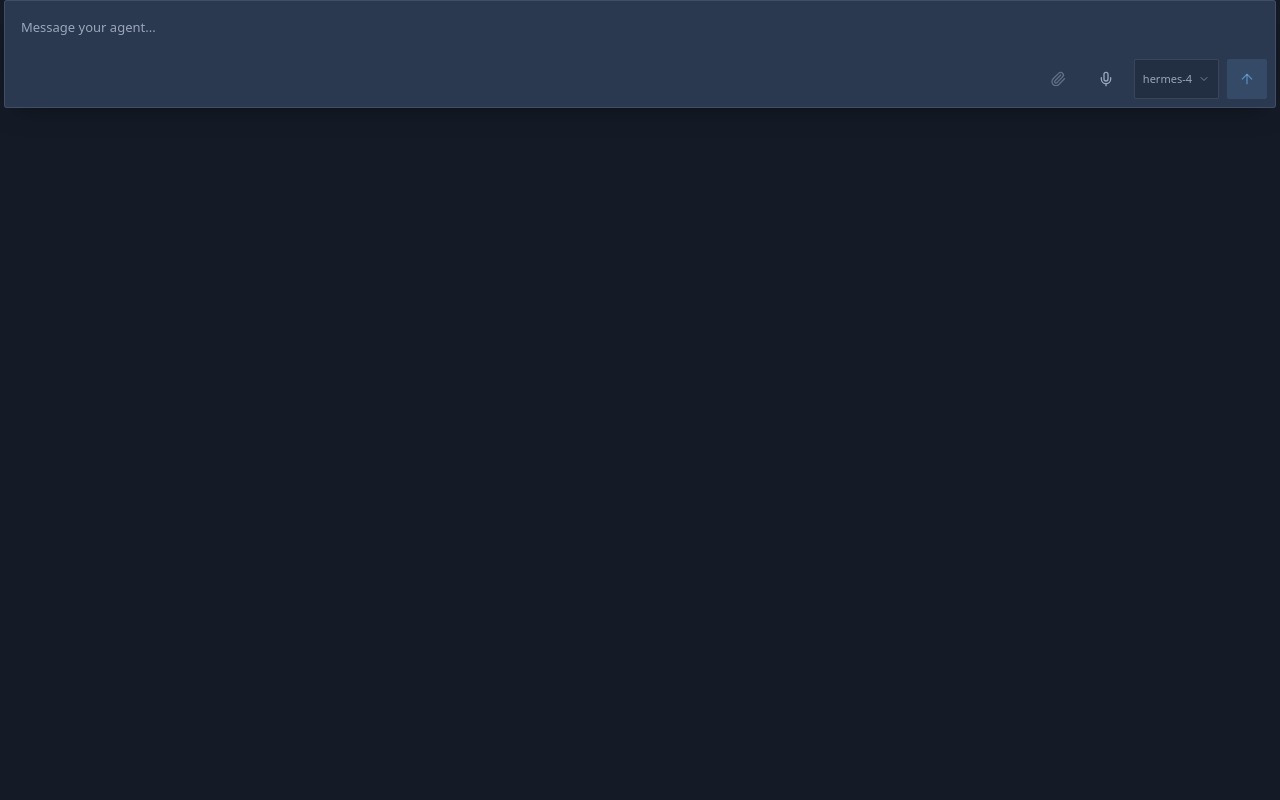
Test: Composer › slash-command menu › opens the model picker via /model
The image size is (1280, 800).
Type "/model" into the text box labelled "Message your agent" at (640, 31), box [13,9,1267,53]
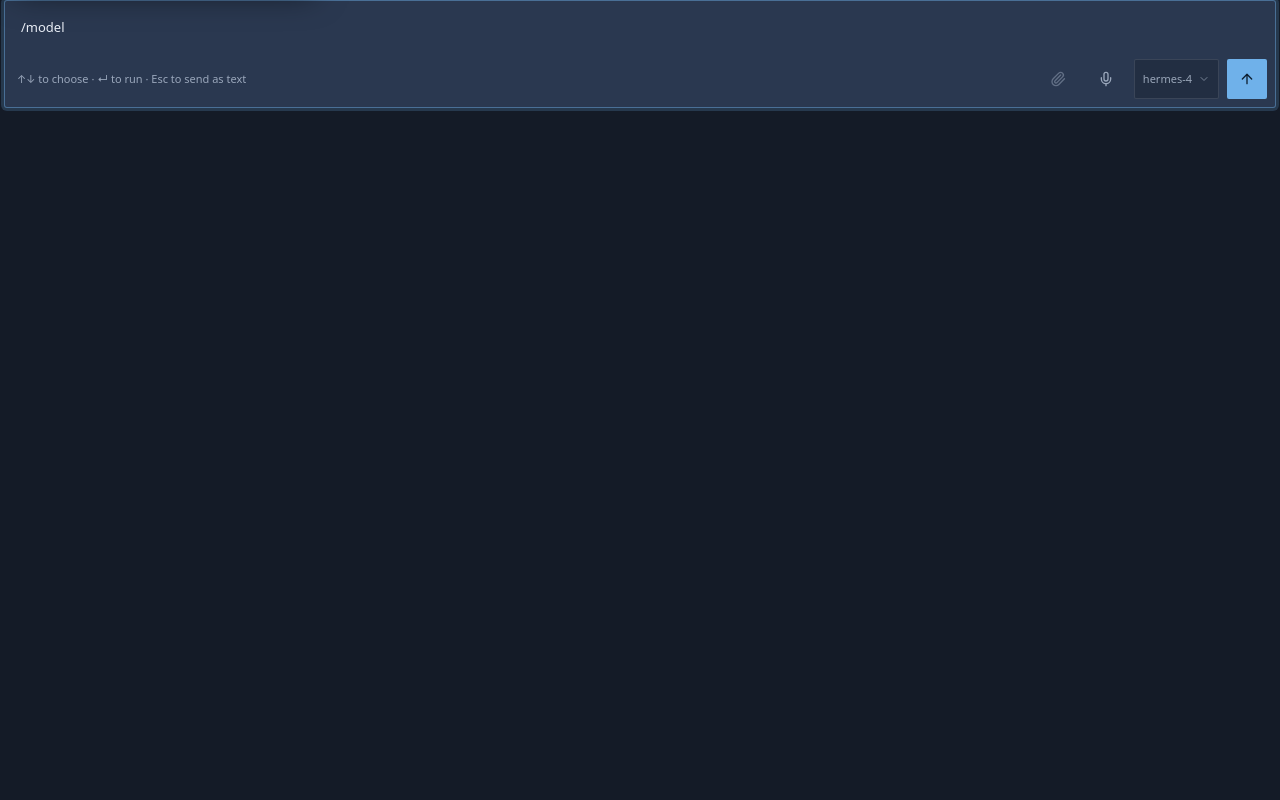
Press Enter
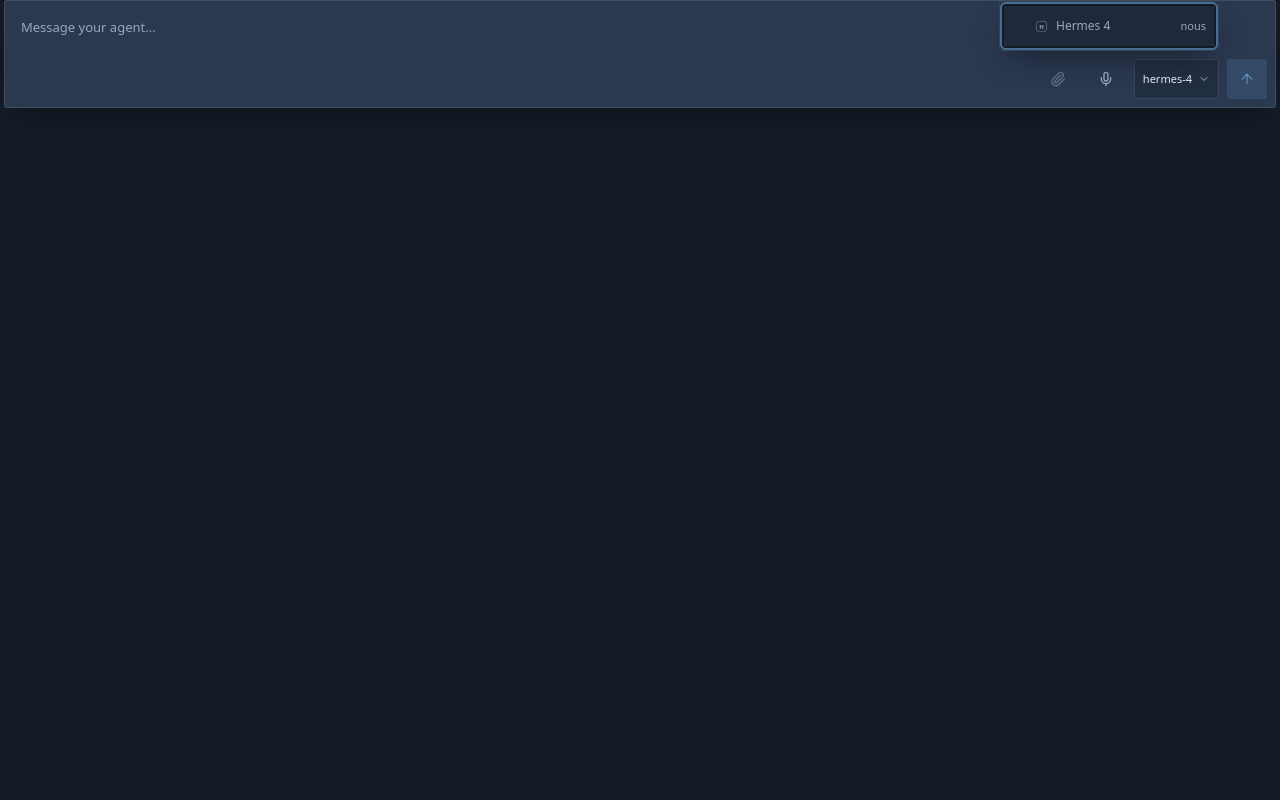
Now the list named "select a model" is shown, box [1004,6,1214,46]
